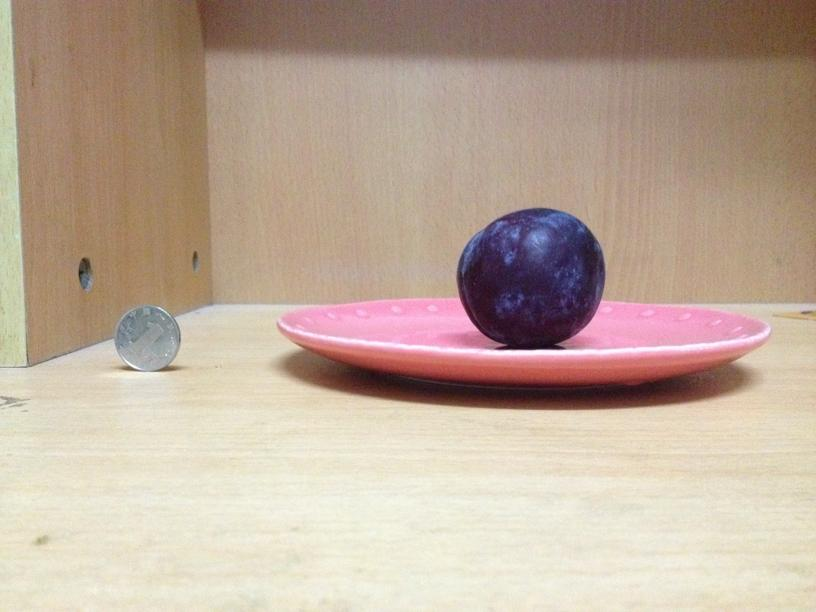coin: (117, 306, 181, 372)
plum: (450, 203, 606, 344)
